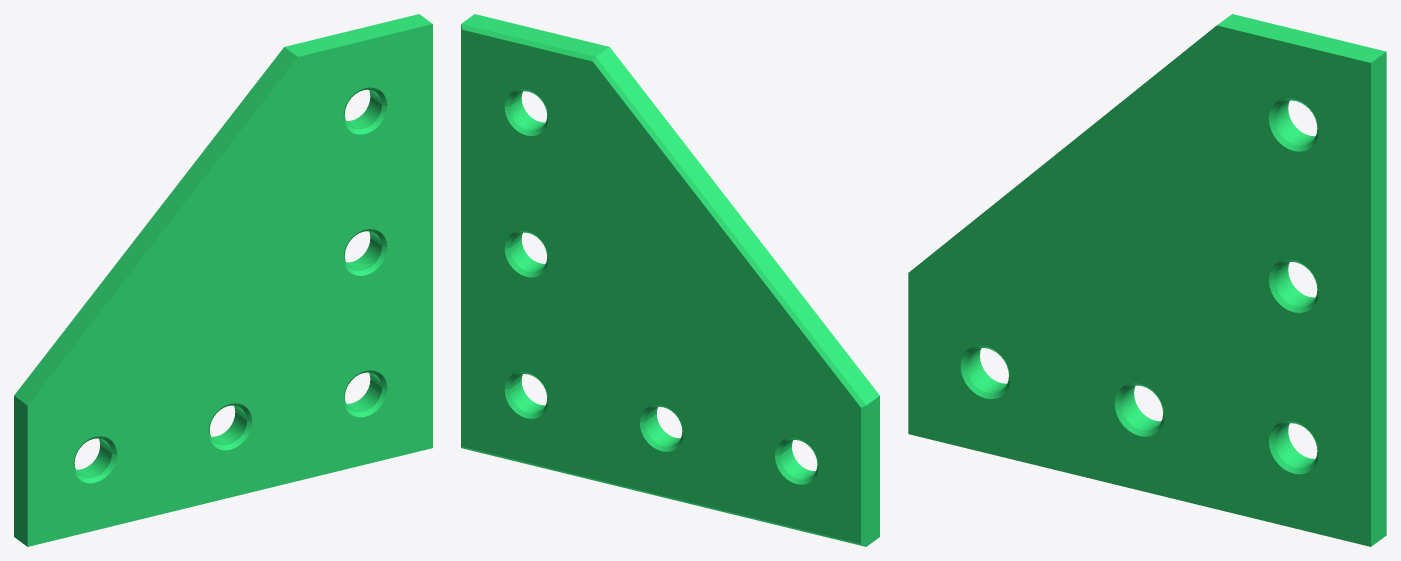
File: fc-plate-l5.glb
3 renders of one model, left to right at view 1: azimuth 30°, elevation 25°; view 2: azimuth 150°, elevation 25°; view 3: azimuth 330°, elevation 25°, orthographic. The views are drawn at different scales.
Visible parts, largest first — view 1: 0_0.8333333333333334_0.16666666666666666_0; view 2: 0_0.8333333333333334_0.16666666666666666_0; view 3: 0_0.8333333333333334_0.16666666666666666_0.
Part boxes in pixels (bbox=[...]): 0_0.8333333333333334_0.16666666666666666_0: bbox=[14, 14, 432, 546]; 0_0.8333333333333334_0.16666666666666666_0: bbox=[461, 14, 879, 546]; 0_0.8333333333333334_0.16666666666666666_0: bbox=[908, 14, 1386, 546].
Size of the model in its own units: 6 by 6 by 0.3999.
